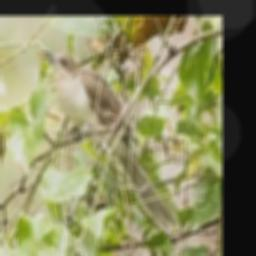Cuckoo: (43, 49, 178, 230)
